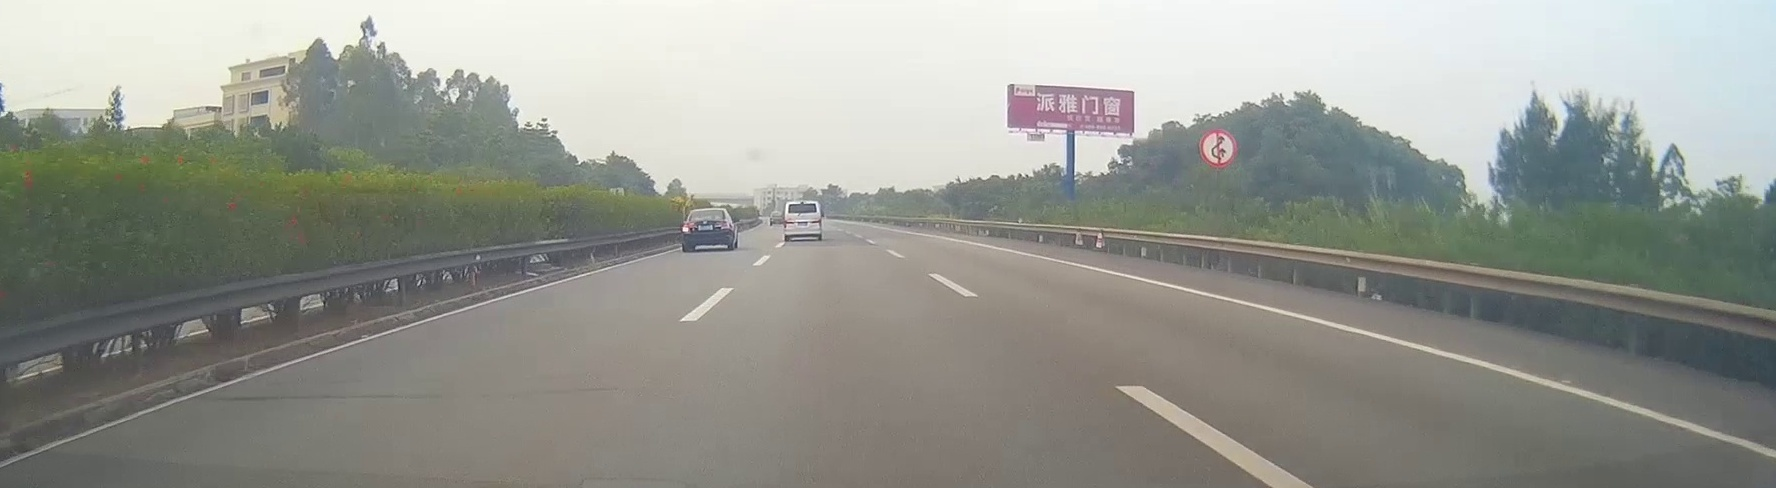L_light: (682, 224, 698, 232), (784, 221, 794, 228), (811, 220, 821, 226)
R_light: (714, 222, 729, 229)
T_light: (799, 203, 806, 205), (703, 209, 710, 211)
day-left: (681, 208, 733, 251)
day-no: (782, 200, 823, 242)
